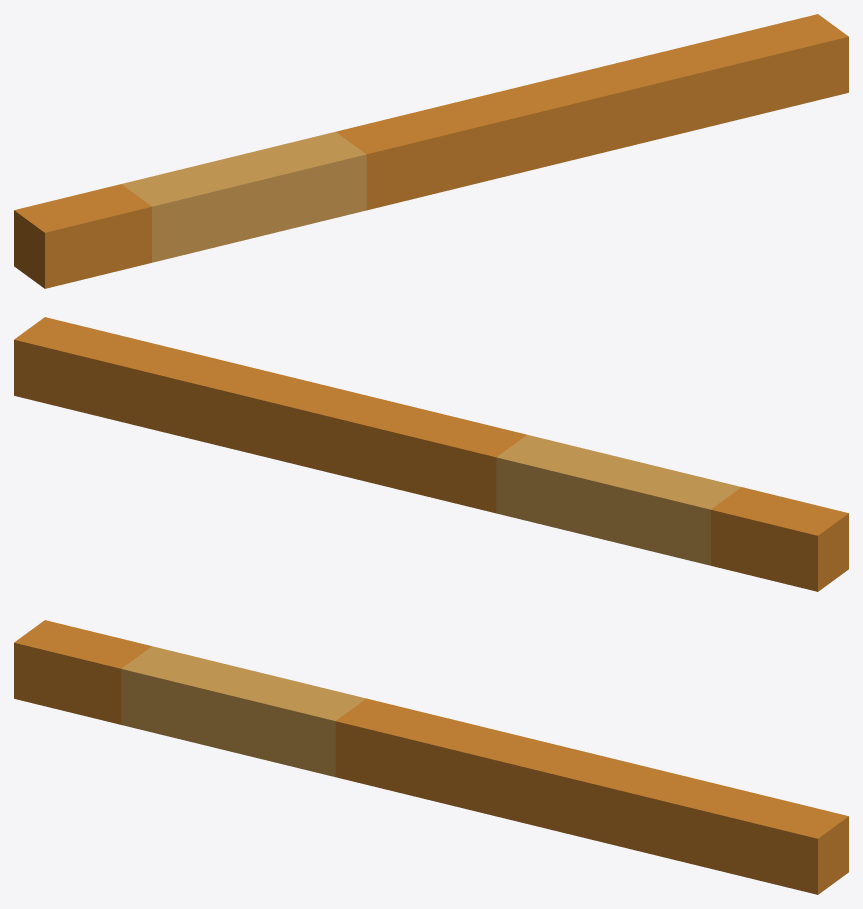
Rendered from mamont_gun.gltf.
The picture shows the model from 3 angles, top to bottom: view 1: azimuth 30°, elevation 25°; view 2: azimuth 150°, elevation 25°; view 3: azimuth 330°, elevation 25°; orthographic projection.
Parts seen in each view (by area): view 1: Плоскость.001; view 2: Плоскость.001; view 3: Плоскость.001.
Part boxes in pixels (x1,y1,x2,y2): Плоскость.001: (14, 14, 848, 288); Плоскость.001: (14, 317, 848, 591); Плоскость.001: (14, 620, 848, 894).
Size of the model in its own units: 15 by 1 by 1.
